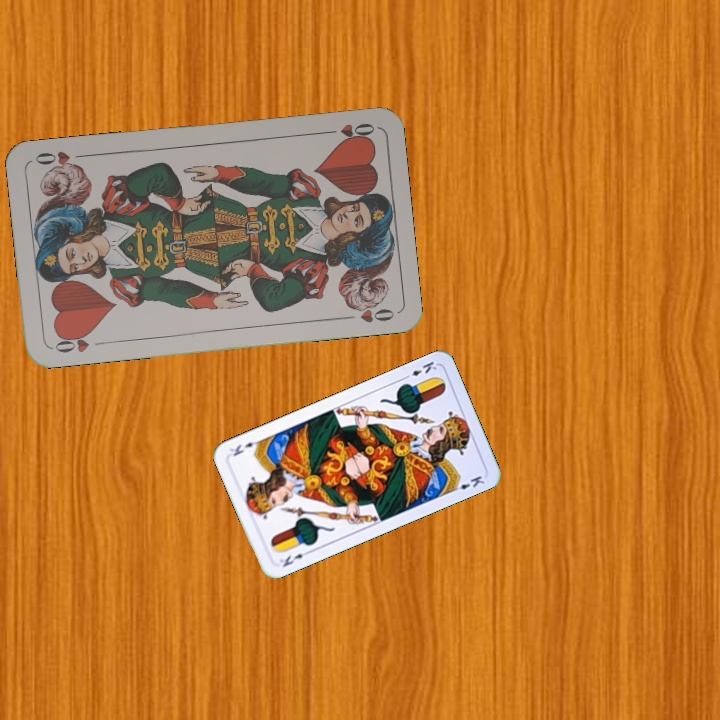EK: (399, 357, 439, 382), (276, 546, 313, 570)
HO: (51, 328, 108, 355), (318, 119, 378, 143)
